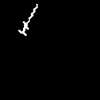double_crochet: (19, 4, 36, 35)
